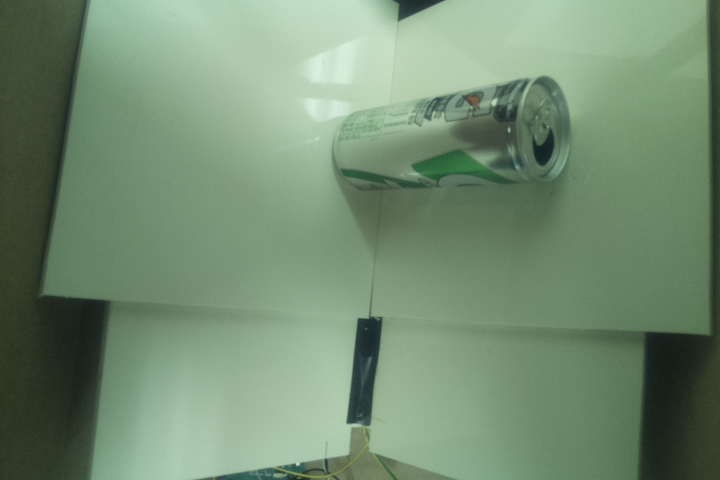can: (328, 73, 578, 193)
